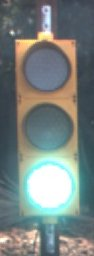Green: (12, 15, 91, 224)
